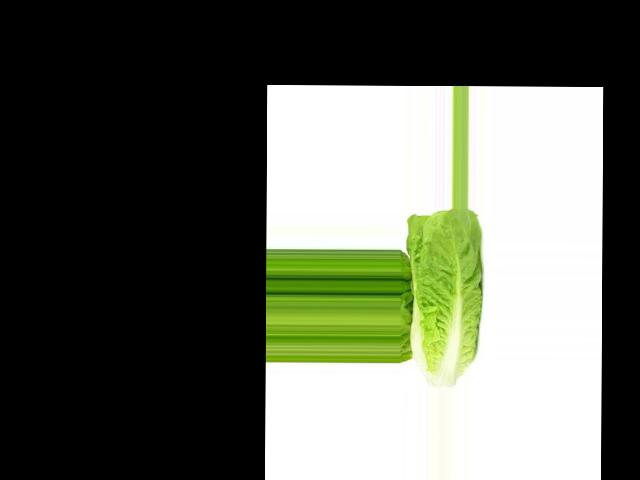lettuce: (409, 252, 499, 361)
